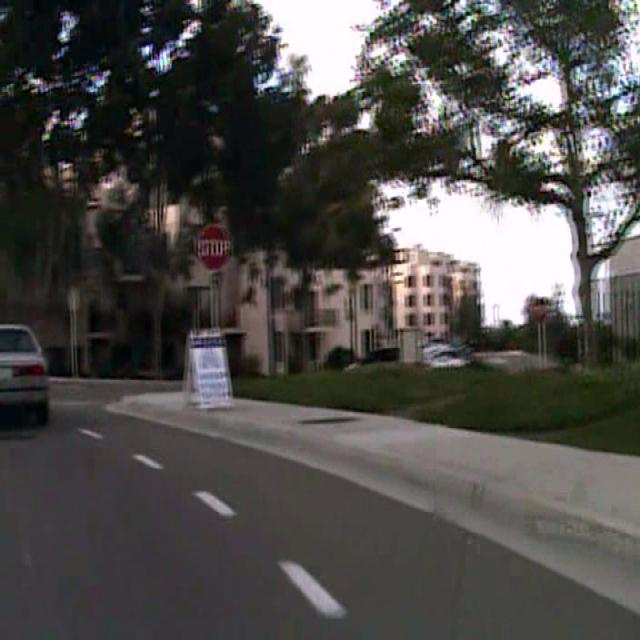stop_sign: (196, 221, 231, 272)
